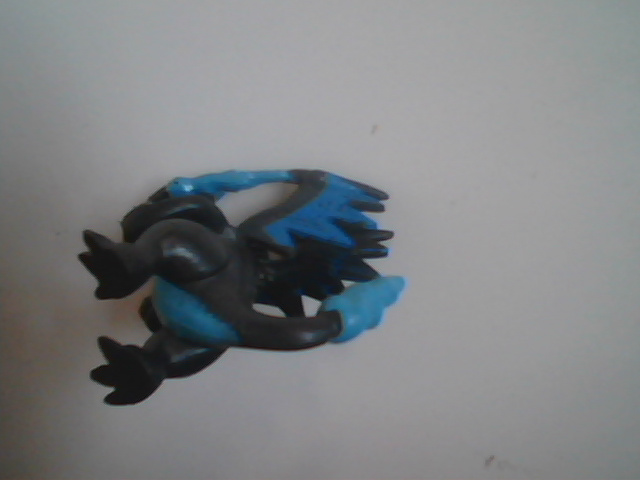charizard: (50, 114, 423, 480)
